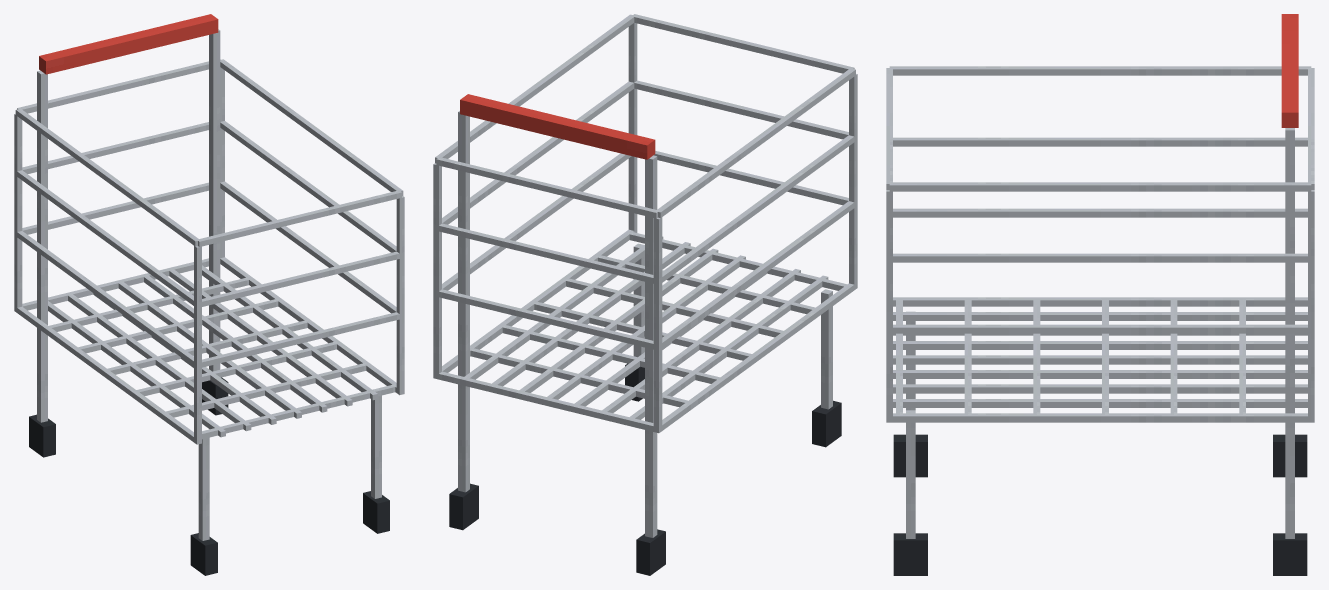
3 renders of one model, left to right at view 1: azimuth 30°, elevation 25°; view 2: azimuth 150°, elevation 25°; view 3: azimuth 270°, elevation 25°, orthographic. The views are drawn at different scales.
Visible parts, largest first — view 1: Decor_shopping_cart; view 2: Decor_shopping_cart; view 3: Decor_shopping_cart.
Part boxes in pixels (box(x1,y1,x2,y2)): Decor_shopping_cart: box(14, 14, 404, 575); Decor_shopping_cart: box(433, 14, 857, 575); Decor_shopping_cart: box(886, 14, 1314, 575).
Size of the model in its own units: 0.574 by 1.04 by 0.874.
3 materials, 3 textured.
